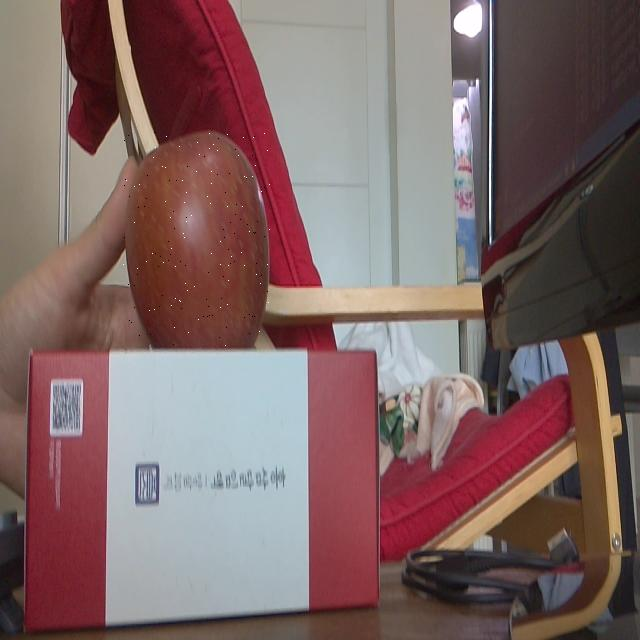apple: (123, 131, 270, 347)
